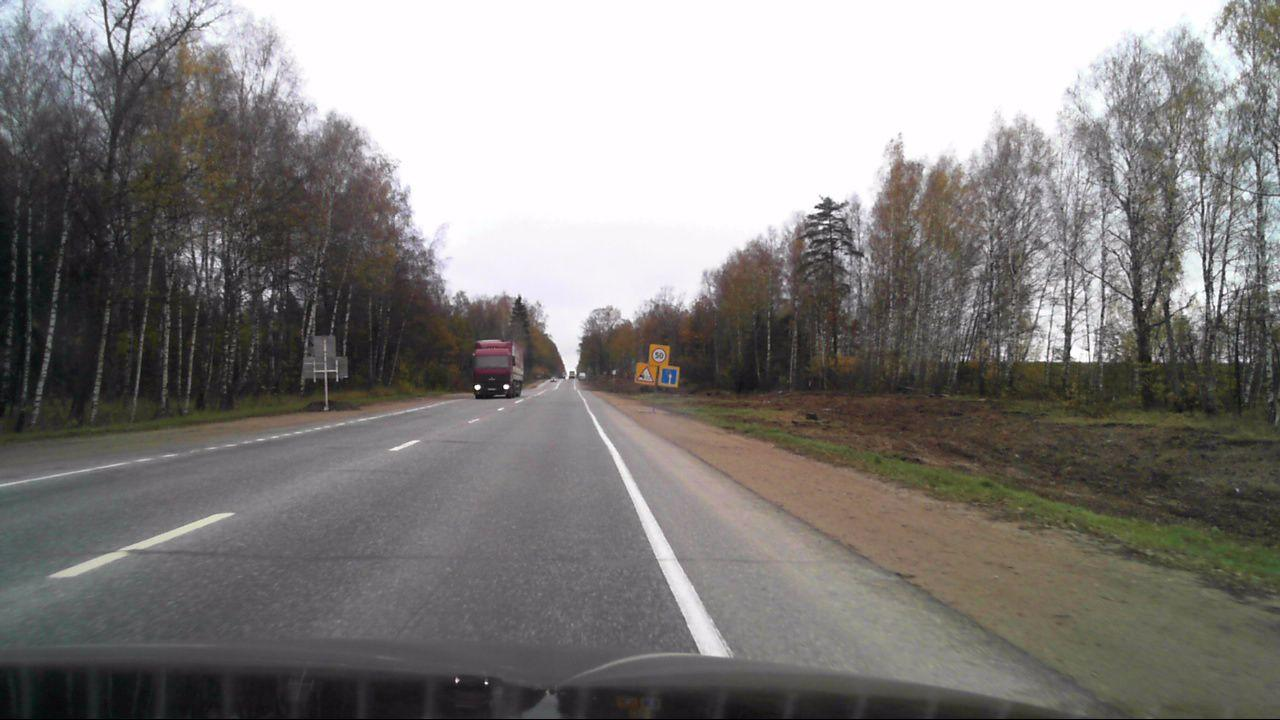1_18: (637, 365, 655, 383)
2_7: (660, 367, 678, 386)
3_24: (651, 347, 667, 364)
